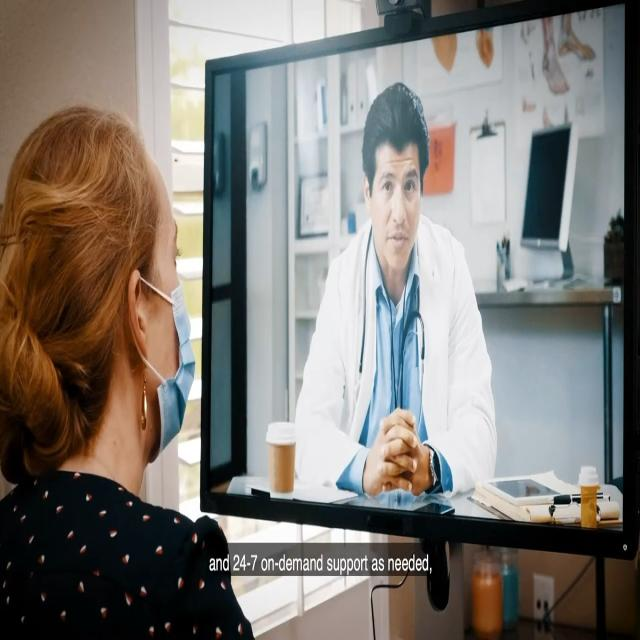Doctor: (306, 71, 500, 499)
Patient: (2, 94, 234, 632)
